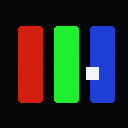1 square: (86, 67, 98, 79)
